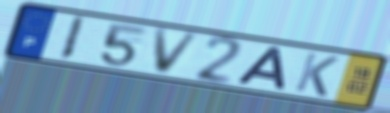2: (190, 34, 244, 87)
5: (99, 21, 151, 68)
A: (233, 45, 288, 93)
I: (56, 14, 89, 63)
K: (291, 50, 342, 99)
V: (152, 27, 204, 76)
